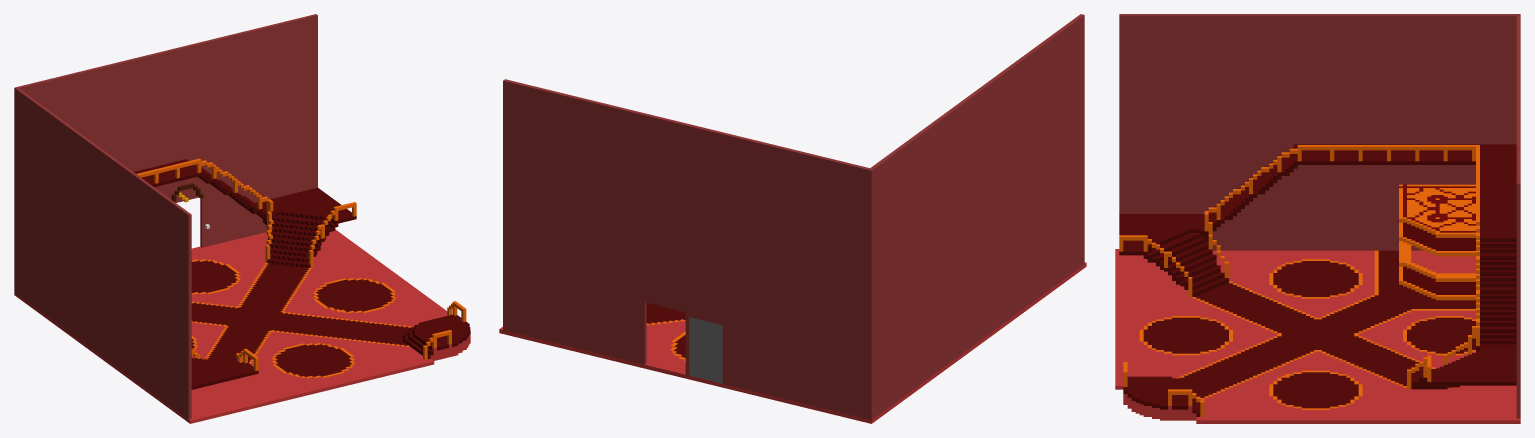
The model's file is hotel no details-0.obj.
3 views of the same model, side by side, from view 1: azimuth 30°, elevation 25°; view 2: azimuth 150°, elevation 25°; view 3: azimuth 270°, elevation 25° (orthographic). The views are drawn at different scales.
Parts seen in each view (by area): view 1: hotel no details-0; view 2: hotel no details-0; view 3: hotel no details-0.
Boxes of the visible parts, x1=… form: hotel no details-0: x1=14, y1=14, x2=470, y2=423; hotel no details-0: x1=499, y1=14, x2=1086, y2=423; hotel no details-0: x1=1115, y1=14, x2=1520, y2=423.
Bounding box in the file's own units: 100 × 65 × 100.
1 material, 1 textured.
